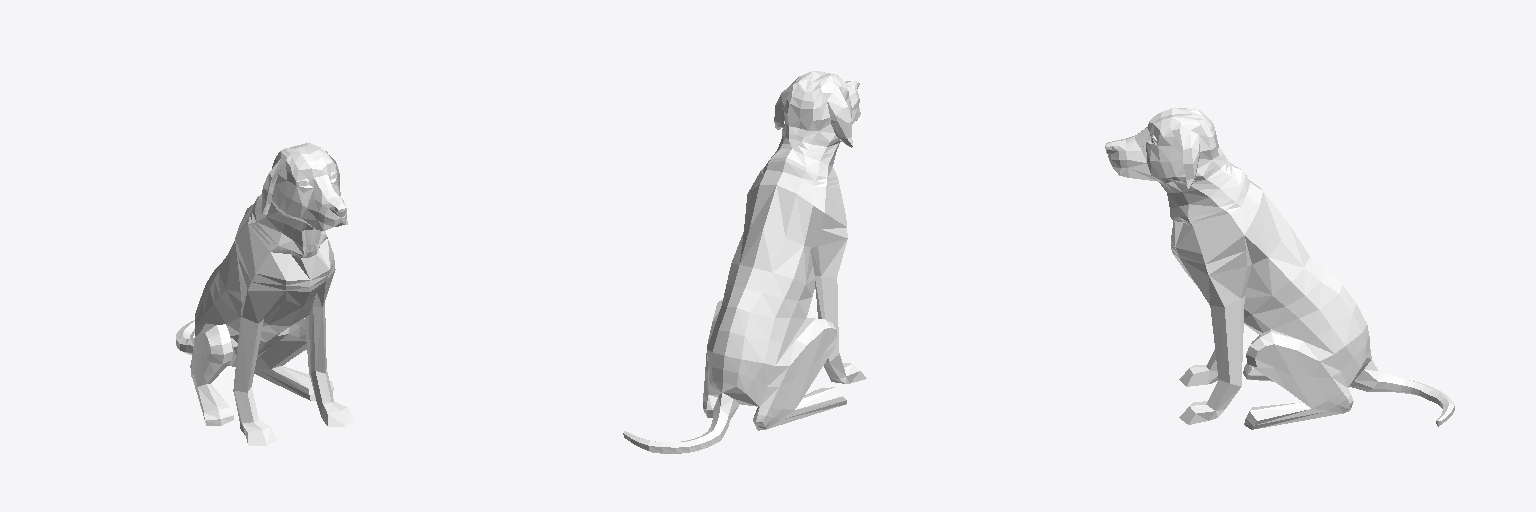
File: собака.obj
3 renders of one model, left to right at view 1: azimuth 30°, elevation 25°; view 2: azimuth 150°, elevation 25°; view 3: azimuth 270°, elevation 25°, orthographic.
Visible parts, largest first — view 1: Plane_1; view 2: Plane_1; view 3: Plane_1.
Part boxes in pixels (left/top/right/bottom): Plane_1: left=176, top=143, right=353, bottom=445; Plane_1: left=623, top=71, right=866, bottom=453; Plane_1: left=1105, top=108, right=1454, bottom=429.
Size of the model in its own units: 86 by 181 by 200.